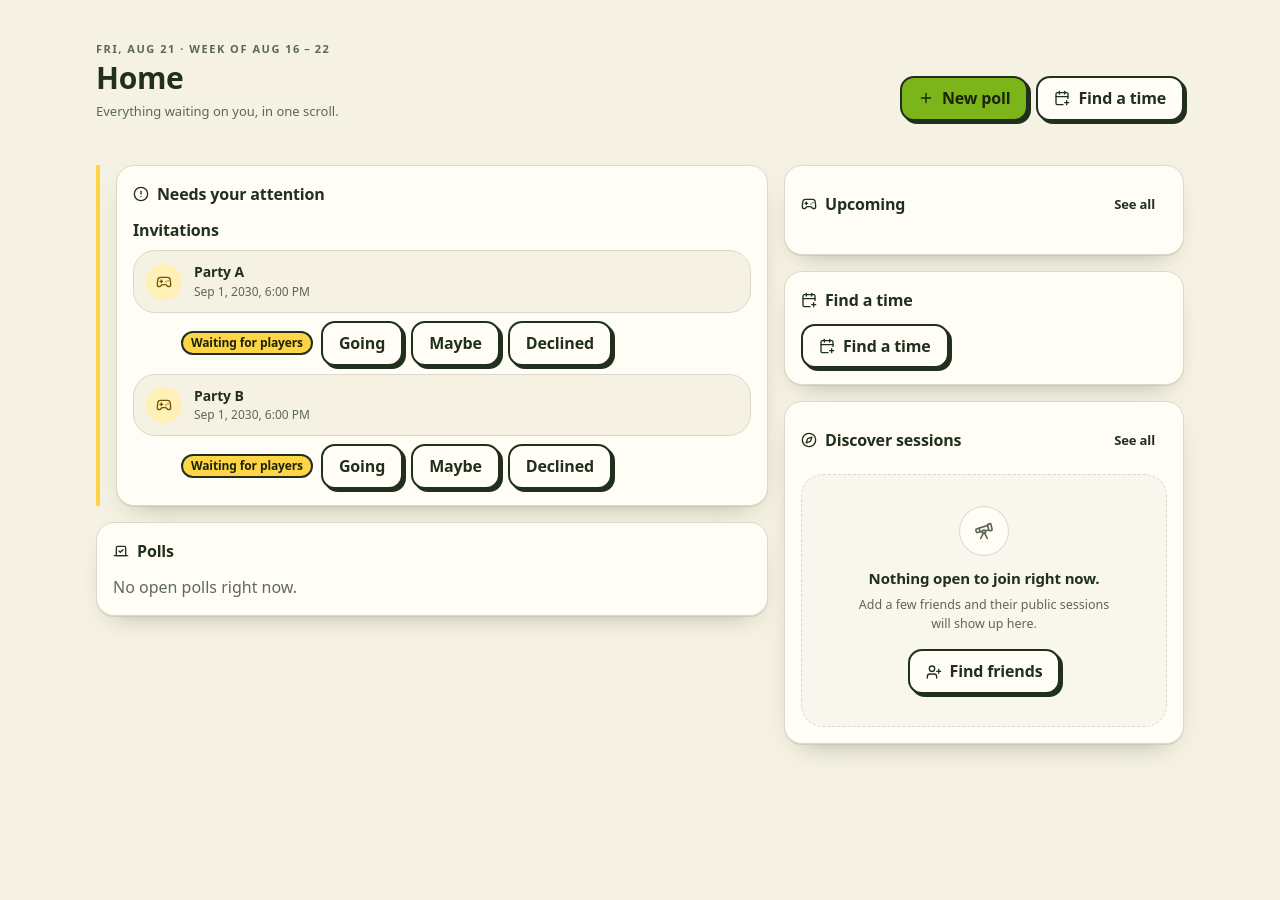
Scenario: HomePage › scopes RSVP pending state to the row being responded to, not every invitation row (Wave 6)
Click the button "Going" below "Party A".
click(362, 343)  # box [321, 321, 403, 366]
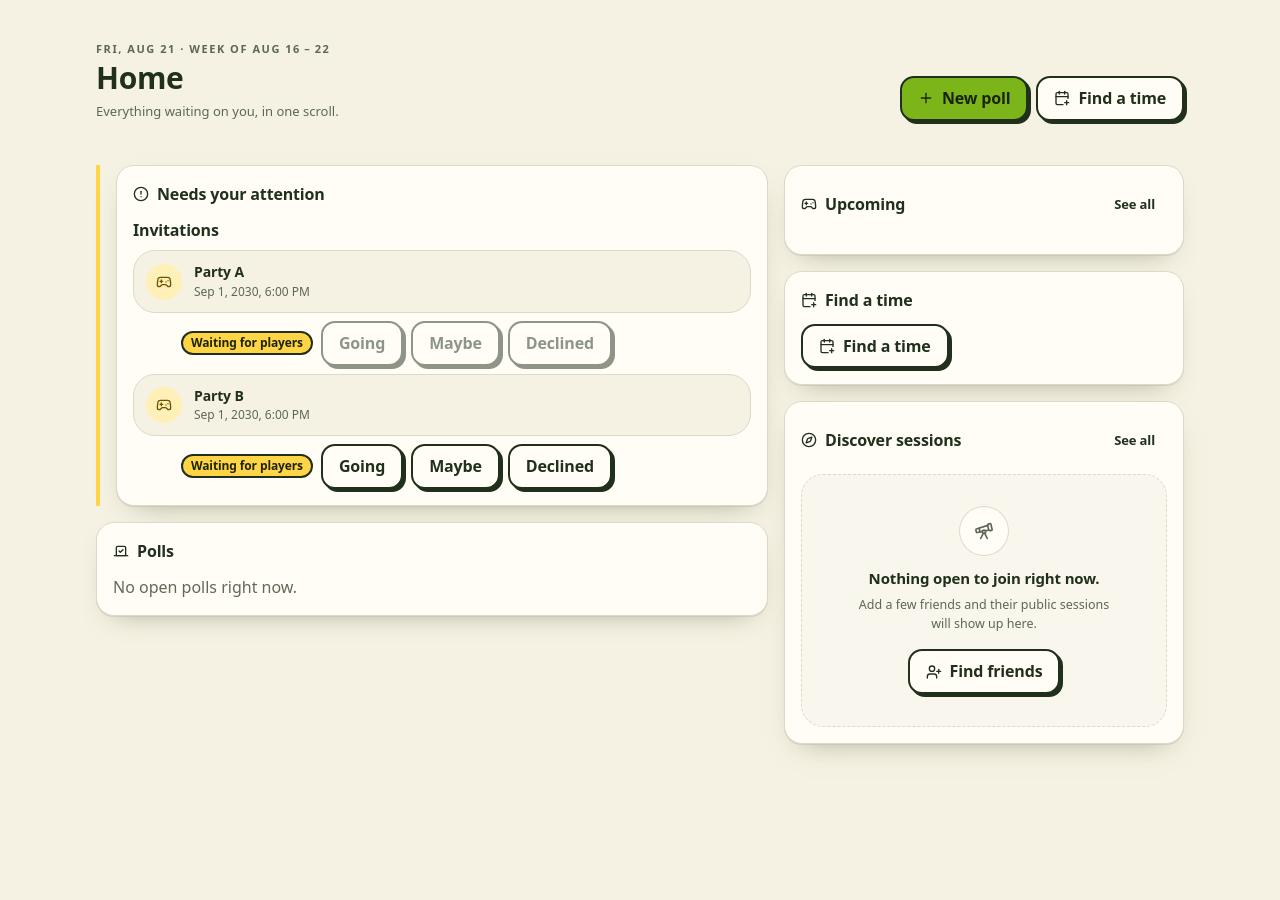
Expected: the button "Going" below "Party B" is enabled, [321, 444, 403, 489]
Result: the button "Going" below "Party A" is disabled at [321, 321, 403, 366]
